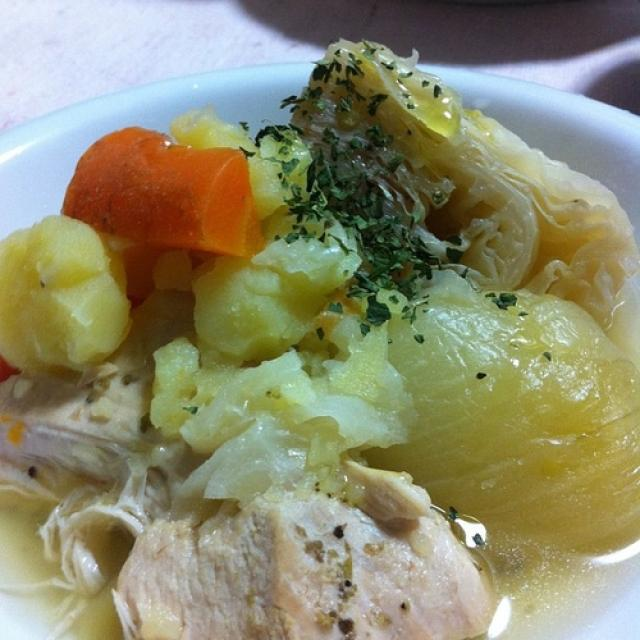汤锅炖物: (29, 42, 606, 631)
